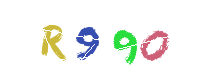9: (62, 0, 142, 80), (64, 0, 144, 80)
O: (86, 0, 166, 80)
R: (48, 0, 128, 80)
